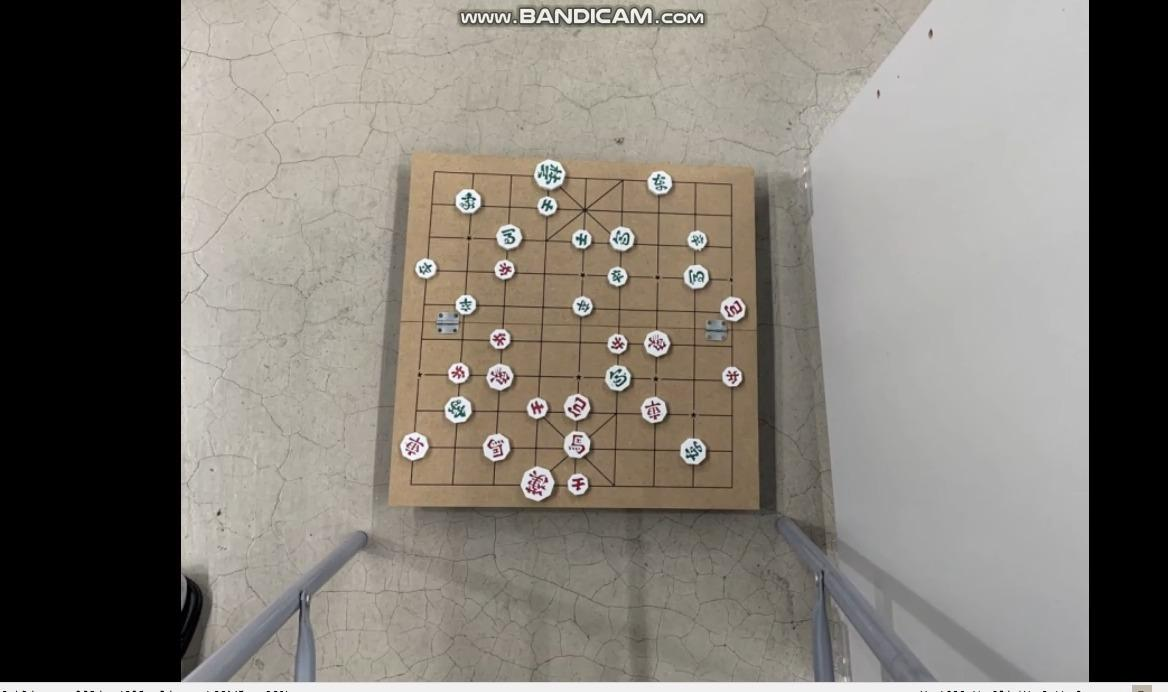cha_green: (679, 439, 708, 464), (647, 171, 673, 195)
cha_red: (397, 434, 429, 459), (639, 398, 668, 423)
jol_green: (456, 294, 478, 315), (415, 258, 437, 278), (573, 298, 595, 317), (606, 268, 629, 286), (688, 230, 708, 249)
jol_red: (446, 364, 471, 383), (489, 329, 511, 350), (721, 367, 744, 386), (495, 260, 516, 280), (607, 334, 629, 353)
ma_green: (494, 225, 523, 249), (682, 266, 710, 289)
ma_red: (481, 435, 512, 461), (562, 431, 592, 457)
po_green: (604, 364, 630, 391), (608, 226, 636, 251)
po_red: (562, 395, 592, 419), (719, 297, 747, 321)
sa_green: (571, 230, 593, 249), (536, 198, 559, 216)
sa_red: (565, 475, 589, 495), (525, 398, 549, 418)
sang_green: (443, 398, 472, 424), (454, 190, 482, 213)
sang_red: (642, 332, 672, 357), (486, 365, 514, 390)
wang_green: (533, 160, 566, 188)
wang_red: (519, 469, 555, 501)
